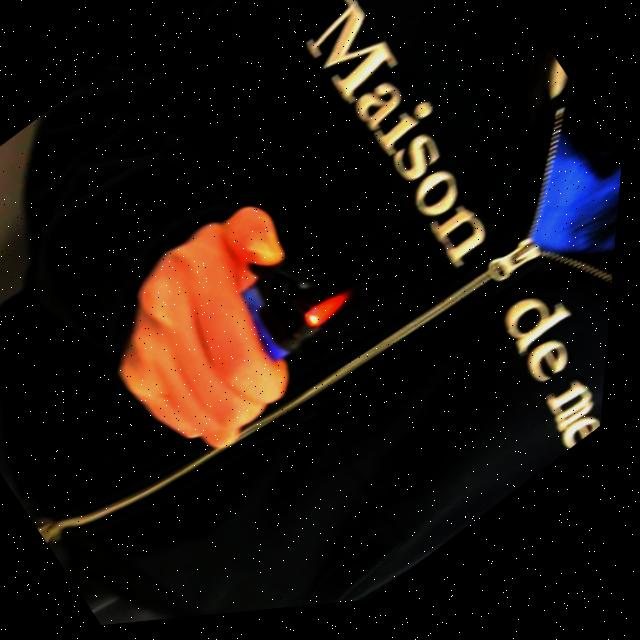Fire: (305, 283, 368, 340)
